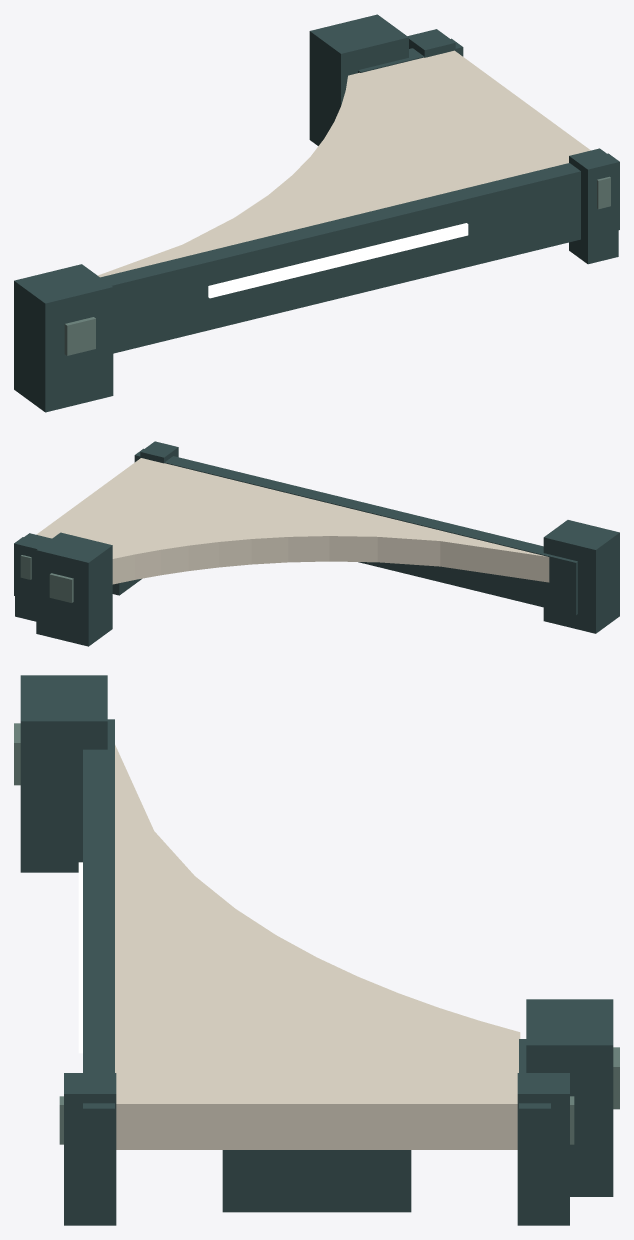
File: Pier_Angled_50_lab.glb
3 renders of one model, top to bottom at view 1: azimuth 30°, elevation 25°; view 2: azimuth 150°, elevation 25°; view 3: azimuth 270°, elevation 25°, orthographic. The views are drawn at different scales.
Visible parts, largest first — view 1: Pier_Angled_50; view 2: Pier_Angled_50; view 3: Pier_Angled_50.
Part boxes in pixels (x1,y1,x2,y2): Pier_Angled_50: (14,14,619,412); Pier_Angled_50: (14,441,619,646); Pier_Angled_50: (14,675,619,1225).
Bounding box in the file's own units: 6.6 × 1.15 × 4.17.
